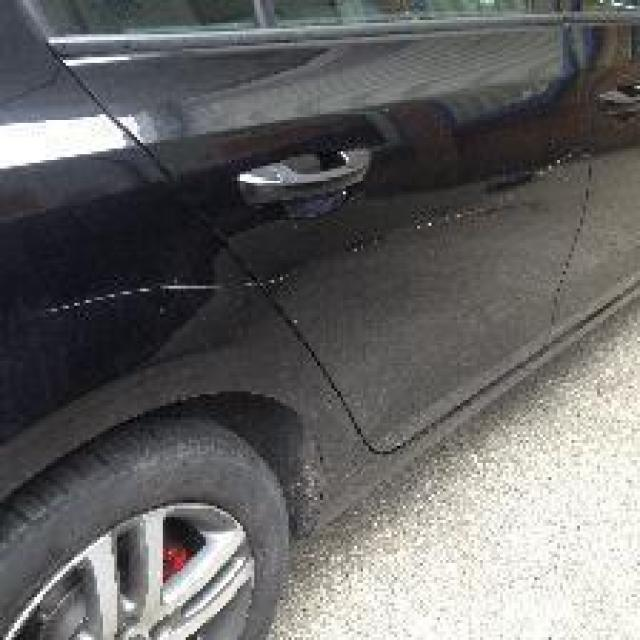damaged: (348, 152, 586, 258), (37, 277, 317, 317)
